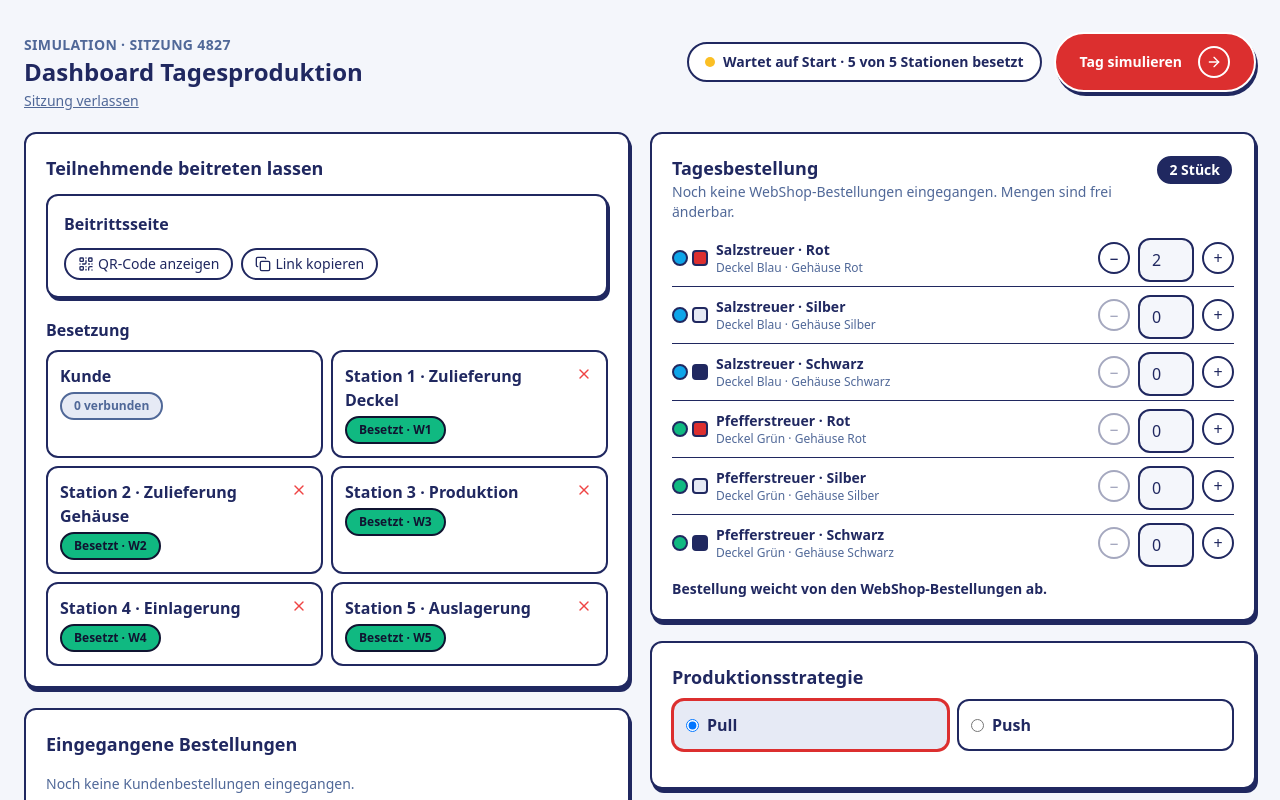
Test: SimulationDashboardPage › starts when everything is ready
The width and height of the screenshot is (1280, 800).
Expected: the heading "Dashboard Tagesproduktion" is shown, [24,56,363,88]
Click the button "Tag simulieren" at point(1155, 62), box [1054,32,1256,92]
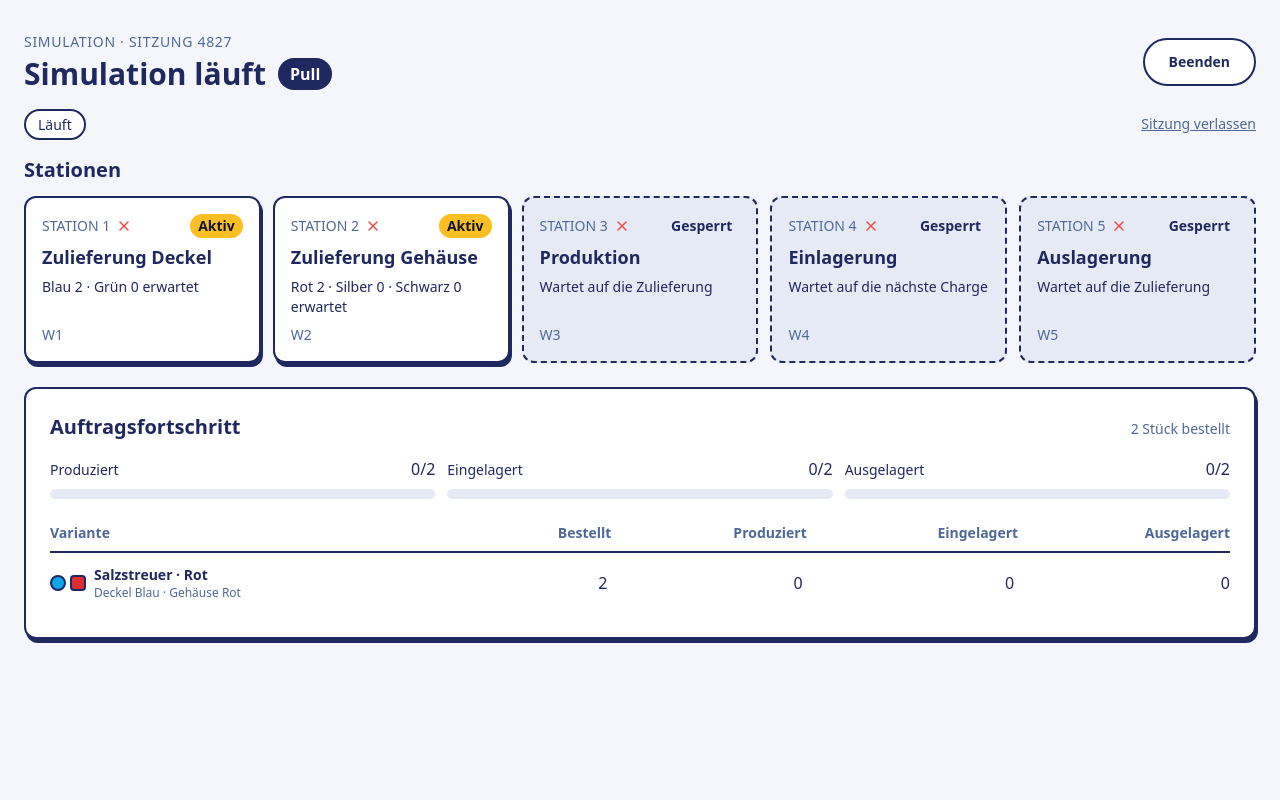
Now the button "Beenden" is shown, box [1142,38,1256,86]
